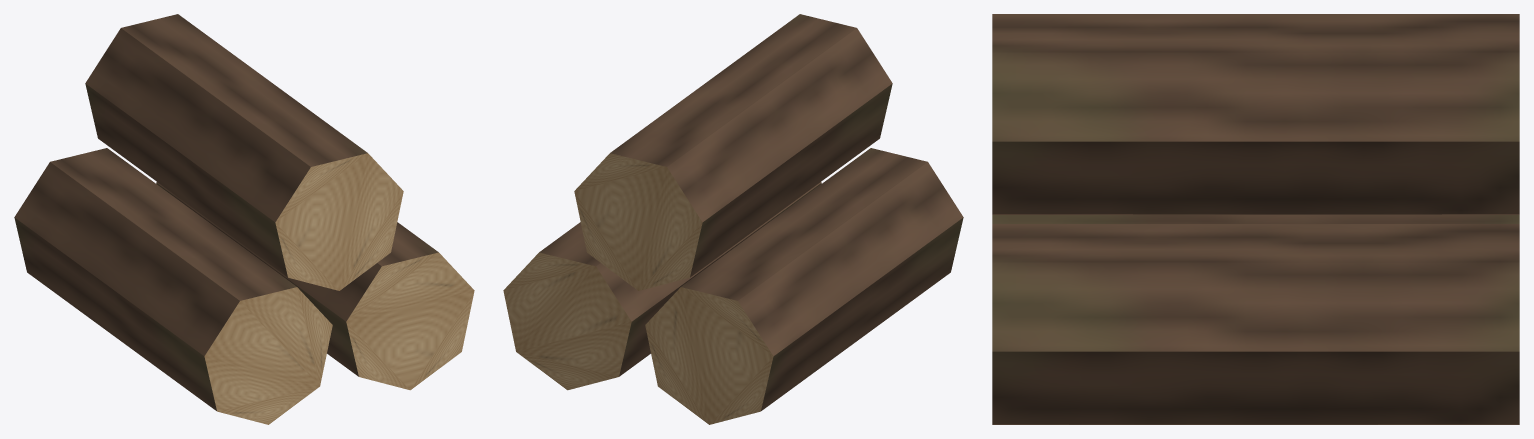
File: SM_Pickup_Wood.fbx
3 renders of one model, left to right at view 1: azimuth 30°, elevation 25°; view 2: azimuth 150°, elevation 25°; view 3: azimuth 270°, elevation 25°, orthographic. The views are drawn at different scales.
Parts seen in each view (by area): view 1: SM_Pickup_Wood; view 2: SM_Pickup_Wood; view 3: SM_Pickup_Wood.
Part boxes in pixels (left/top/right/bottom): SM_Pickup_Wood: left=14, top=14, right=474, bottom=424; SM_Pickup_Wood: left=503, top=14, right=963, bottom=424; SM_Pickup_Wood: left=992, top=14, right=1519, bottom=424.
Bounding box in the file's own units: 1.07 × 0.9343 × 1.3.
Materials: 1 (1 with a texture image).
